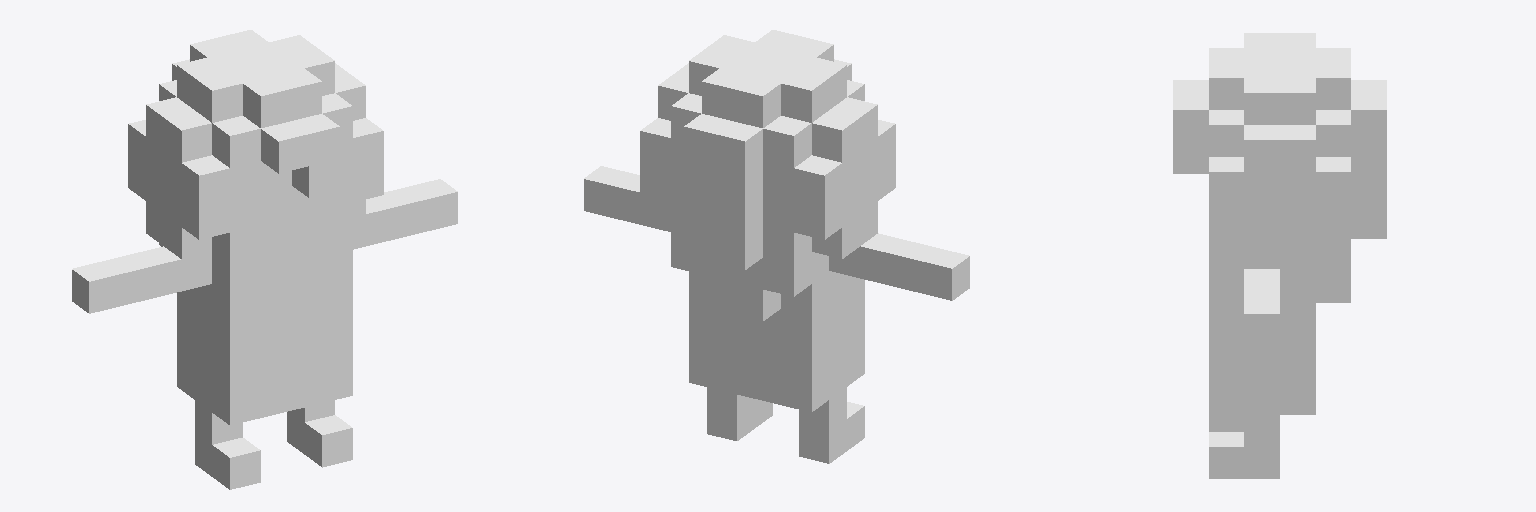
Rendered from minion2.obj.
3 views of the same model, side by side, from view 1: azimuth 30°, elevation 25°; view 2: azimuth 150°, elevation 25°; view 3: azimuth 270°, elevation 25° (orthographic).
Parts seen in each view (by area): view 1: object 1; view 2: object 1; view 3: object 1.
Part boxes in pixels (x1,y1,x2,y2): object 1: (72,30,457,489); object 1: (584,30,969,463); object 1: (1173,33,1386,478).
Size of the model in its own units: 1.2 by 1.2 by 0.6.